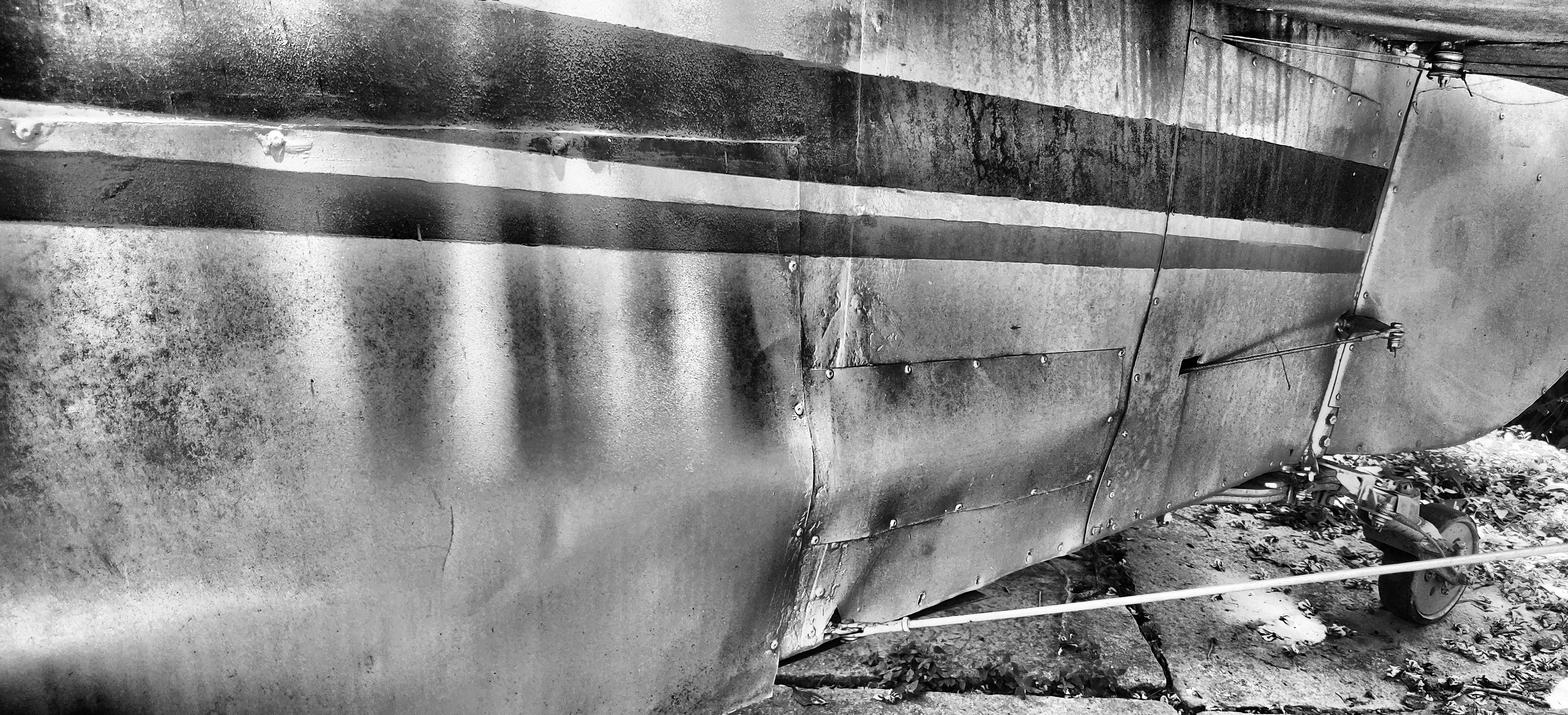crack: (1290, 448, 1294, 457)
dent: (717, 263, 809, 457)
missing-head: (916, 591, 927, 606), (1107, 517, 1112, 528), (1133, 511, 1139, 519), (975, 577, 979, 583)
scratch: (1412, 84, 1565, 116), (1272, 341, 1291, 390), (822, 301, 843, 339), (442, 506, 454, 572), (826, 339, 840, 367)
